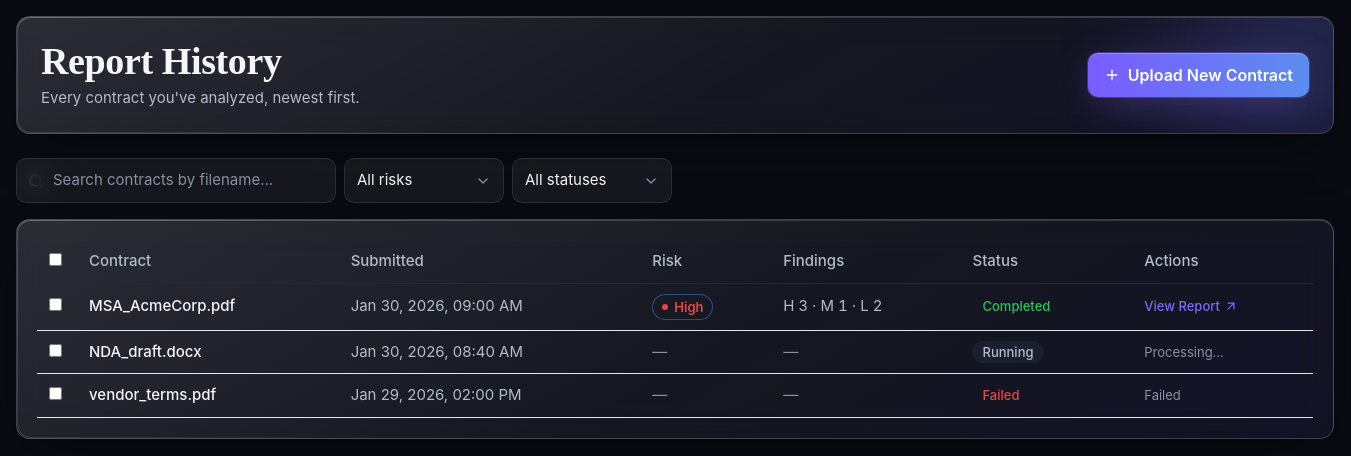
Test case: ReportHistoryView (spec 021) › EC-5: search with no matches shows a distinct no-results message
Expected: the link "MSA_AcmeCorp.pdf" is shown, [89, 296, 235, 315]
Type "zzz-nope" into the search field at (176, 181), box [16, 158, 336, 203]
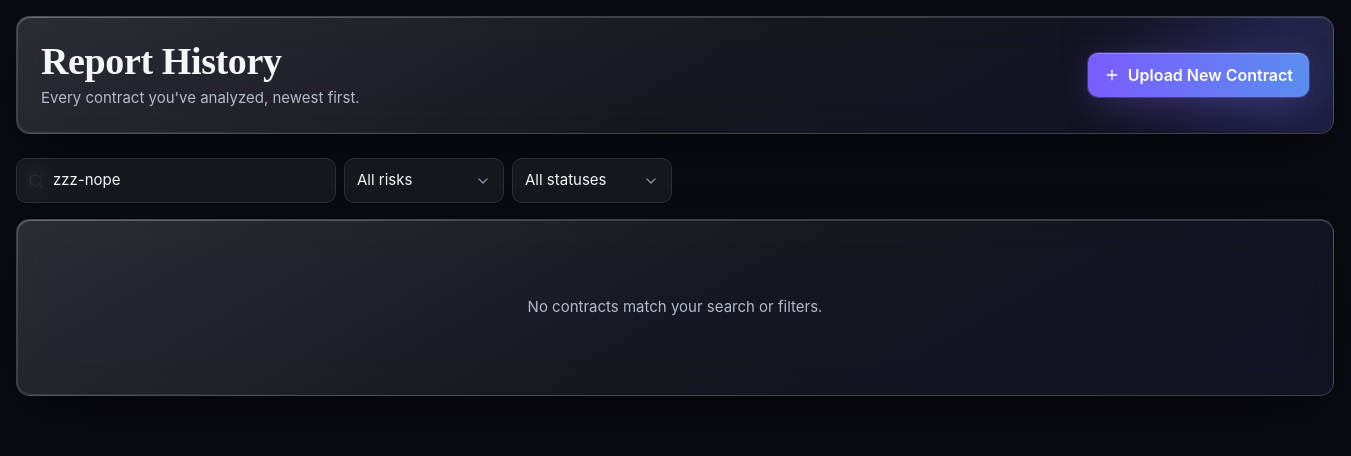
Result: the text "No contracts match your search or filters." is shown at [528, 297, 822, 316]
